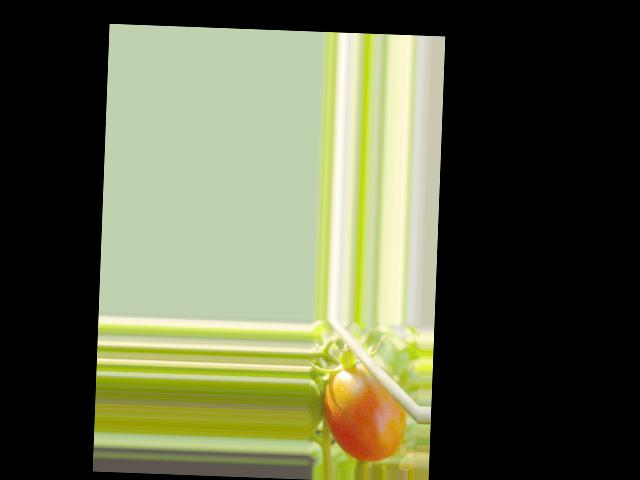tomato: (322, 362, 407, 462)
